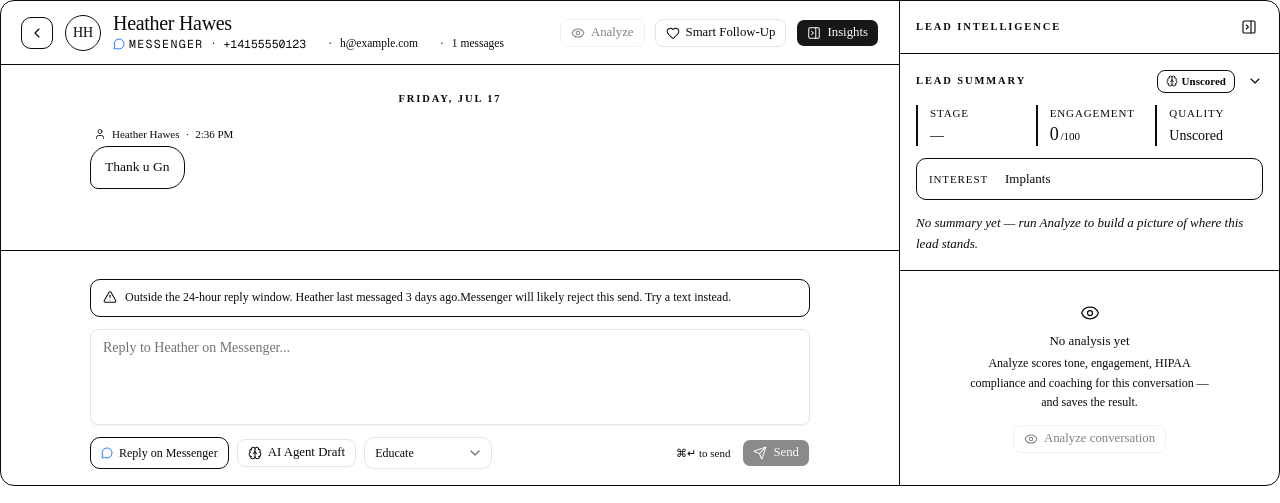
Scenario: ConversationThread Meta 24-hour reply window › keeps the send button enabled — we warn, we do not block
Type "Hi Ellen, can I get you scheduled this week?" into the text box at point(450, 377), box top-left (90, 329), bottom-right (810, 425)
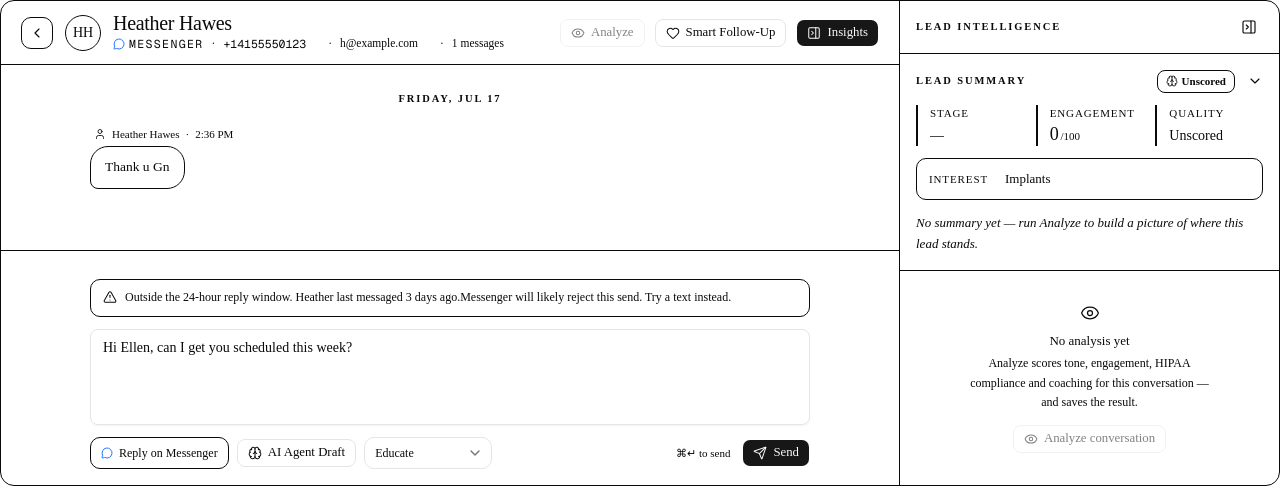
Expected: the button "Send" is enabled, top-left (742, 439), bottom-right (810, 467)
